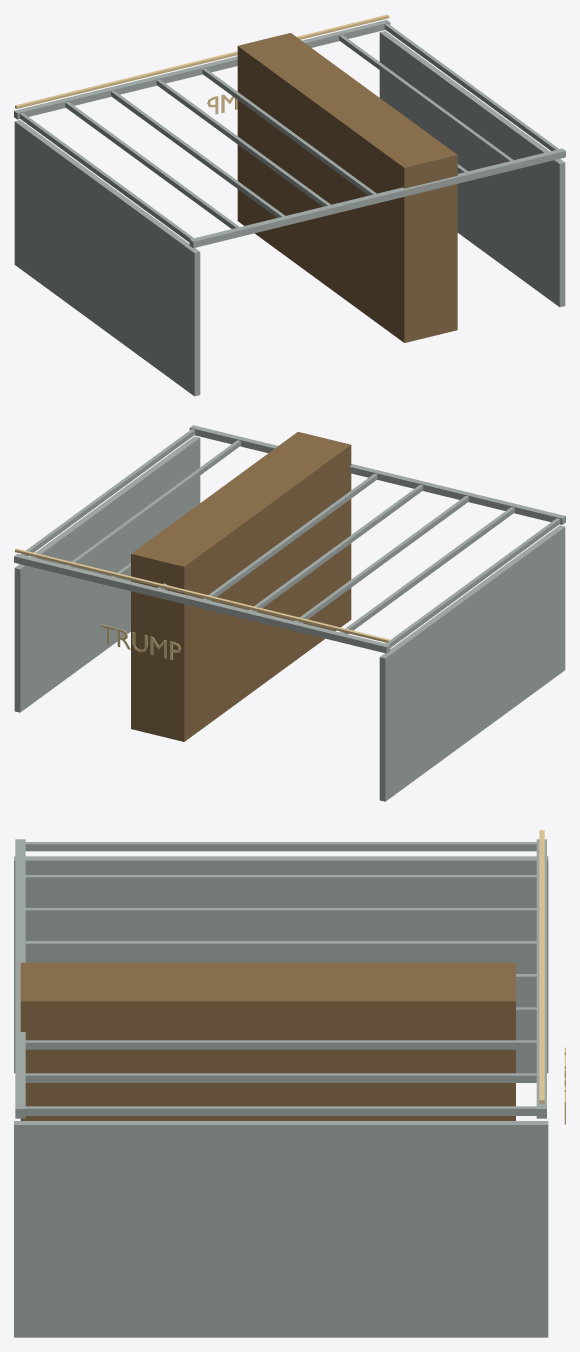
File: KOL_T1_TRUMP__Crown.fbx
3 views of the same model, one above another, from view 1: azimuth 30°, elevation 25°; view 2: azimuth 150°, elevation 25°; view 3: azimuth 270°, elevation 25° (orthographic). The views are drawn at different scales.
Visible parts, largest first — view 1: KOL_T1_TRUMP__Crown__KOL_T1_Silver, KOL_T1_TRUMP__Crown__KOL_T1_Bronze, KOL_T1_TRUMP__Crown__KOL_T1_Accent; view 2: KOL_T1_TRUMP__Crown__KOL_T1_Silver, KOL_T1_TRUMP__Crown__KOL_T1_Bronze, KOL_T1_TRUMP__Crown__KOL_T1_Accent; view 3: KOL_T1_TRUMP__Crown__KOL_T1_Silver, KOL_T1_TRUMP__Crown__KOL_T1_Bronze, KOL_T1_TRUMP__Crown__KOL_T1_Accent.
Part boxes in pixels (x1,y1,x2,y2): KOL_T1_TRUMP__Crown__KOL_T1_Silver: [14, 20, 565, 396]; KOL_T1_TRUMP__Crown__KOL_T1_Bronze: [237, 33, 457, 342]; KOL_T1_TRUMP__Crown__KOL_T1_Accent: [15, 14, 389, 114]; KOL_T1_TRUMP__Crown__KOL_T1_Silver: [14, 425, 565, 801]; KOL_T1_TRUMP__Crown__KOL_T1_Bronze: [131, 432, 351, 741]; KOL_T1_TRUMP__Crown__KOL_T1_Accent: [15, 548, 389, 659]; KOL_T1_TRUMP__Crown__KOL_T1_Silver: [14, 839, 548, 1337]; KOL_T1_TRUMP__Crown__KOL_T1_Bronze: [20, 962, 515, 1120]; KOL_T1_TRUMP__Crown__KOL_T1_Accent: [539, 830, 565, 1124].
Bounding box in the file's own units: 49 × 22 × 42.35.
